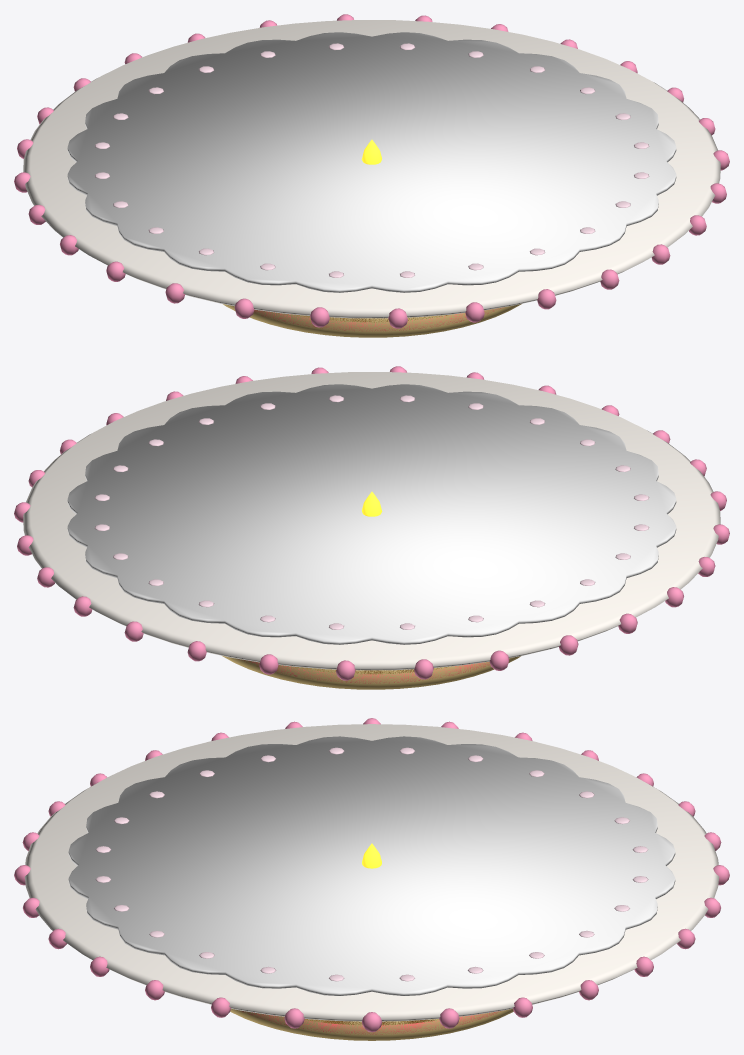
The model's file is cake.glb.
3 renders of one model, top to bottom at view 1: azimuth 30°, elevation 25°; view 2: azimuth 150°, elevation 25°; view 3: azimuth 270°, elevation 25°, orthographic.
Visible parts, largest first — view 1: cake_stand_mesh, cake_layer_mesh, cake_layer_rainbow_mesh; view 2: cake_stand_mesh, cake_layer_mesh, cake_layer_rainbow_mesh; view 3: cake_stand_mesh, cake_layer_mesh, cake_layer_rainbow_mesh.
Part boxes in pixels (bbox=[...]): cake_stand_mesh: bbox=[14, 14, 729, 328]; cake_layer_mesh: bbox=[223, 304, 521, 337]; cake_layer_rainbow_mesh: bbox=[254, 307, 503, 331]; cake_stand_mesh: bbox=[14, 366, 729, 680]; cake_layer_mesh: bbox=[222, 656, 520, 689]; cake_layer_rainbow_mesh: bbox=[239, 659, 489, 683]; cake_stand_mesh: bbox=[14, 718, 729, 1032]; cake_layer_mesh: bbox=[230, 1008, 513, 1040]; cake_layer_rainbow_mesh: bbox=[242, 1011, 500, 1034].
Bounding box in the file's own units: 1.96 × 0.375 × 1.96.
